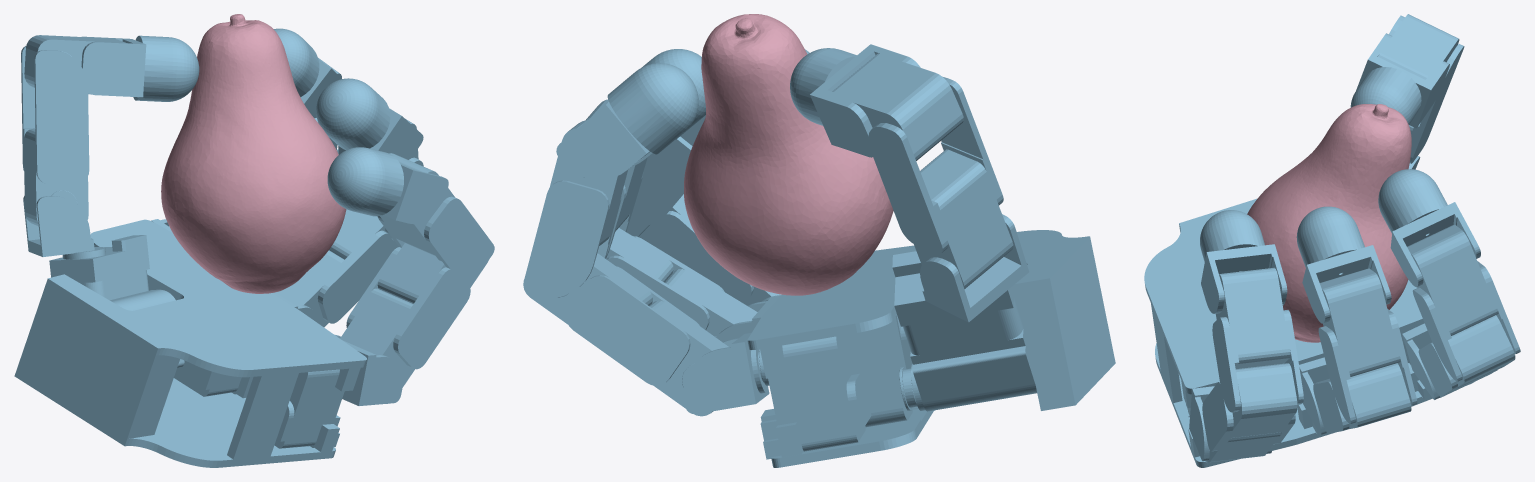
The model's file is Allegro_ycb+pear_mesh.glb.
The picture shows the model from 3 angles, left to right: view 1: azimuth 30°, elevation 25°; view 2: azimuth 150°, elevation 25°; view 3: azimuth 270°, elevation 25°; orthographic projection. The views are drawn at different scales.
Parts seen in each view (by area): view 1: world; view 2: world; view 3: world.
Boxes of the visible parts, bbox=[...] form: world: bbox=[14, 14, 494, 467]; world: bbox=[523, 14, 1115, 467]; world: bbox=[1144, 14, 1520, 467].
Size of the model in its own units: 0.1836 by 0.1553 by 0.1436.
